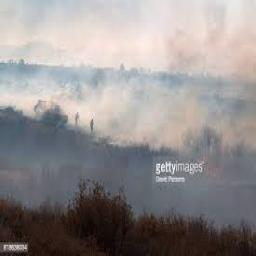Low smoke: (0, 0, 255, 241)
